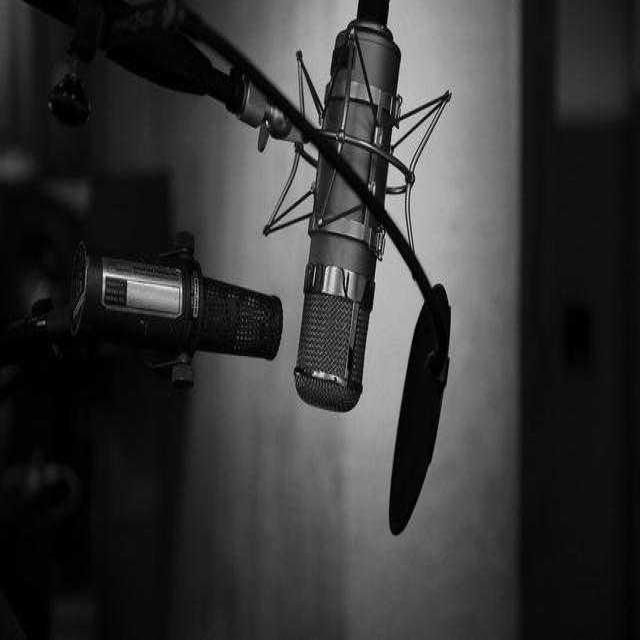microphone: (294, 7, 396, 414), (59, 236, 284, 370)
